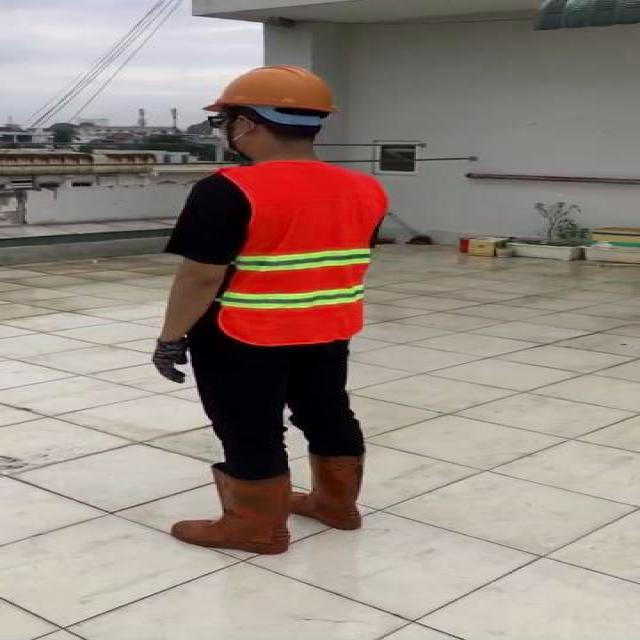boots: (174, 464, 295, 556), (289, 453, 372, 532)
hand_glove: (150, 339, 191, 385)
head_helmet: (204, 62, 338, 116)
person: (150, 63, 396, 557)
vest: (190, 160, 391, 344)
